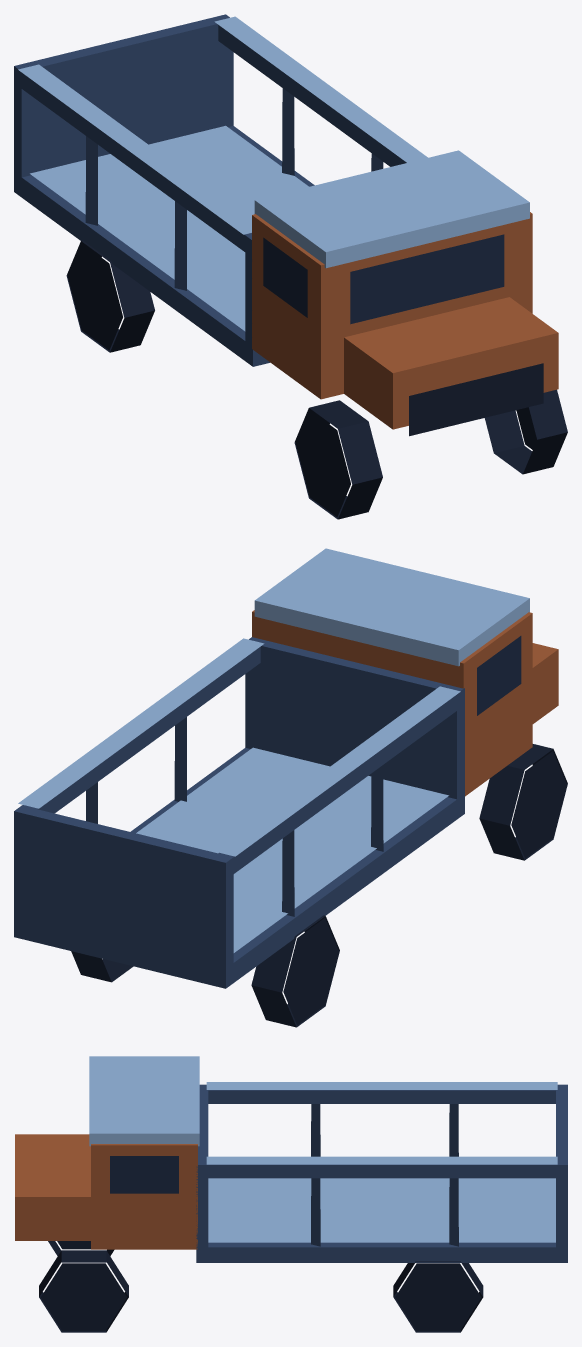
Rendered from flatbed_truck.glb.
3 views of the same model, one above another, from view 1: azimuth 30°, elevation 25°; view 2: azimuth 150°, elevation 25°; view 3: azimuth 270°, elevation 25° (orthographic). The views are drawn at different scales.
Visible parts, largest first — view 1: Flatbed_Truck; view 2: Flatbed_Truck; view 3: Flatbed_Truck.
Boxes of the visible parts, bbox=[...] form: Flatbed_Truck: bbox=[14, 14, 567, 519]; Flatbed_Truck: bbox=[14, 548, 567, 1027]; Flatbed_Truck: bbox=[15, 1056, 567, 1332].
Size of the model in its own units: 2.26 by 2.51 by 6.41.
